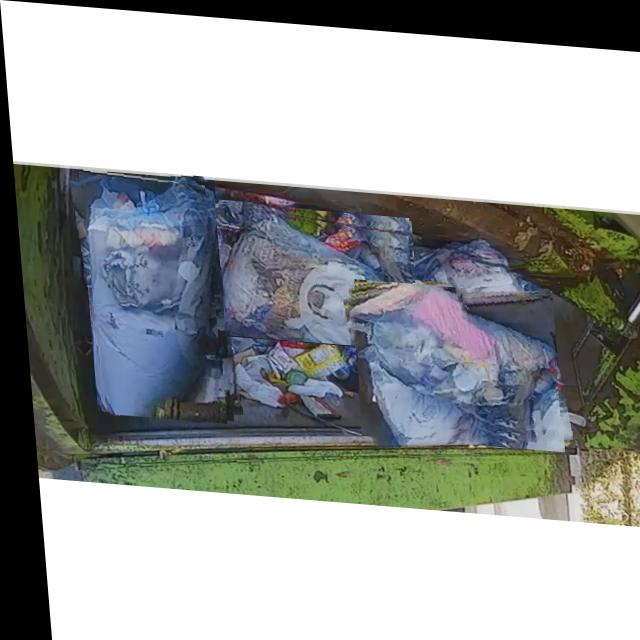other_trashbag: (345, 277, 549, 423), (85, 176, 208, 415), (218, 202, 411, 342), (457, 263, 550, 359)
